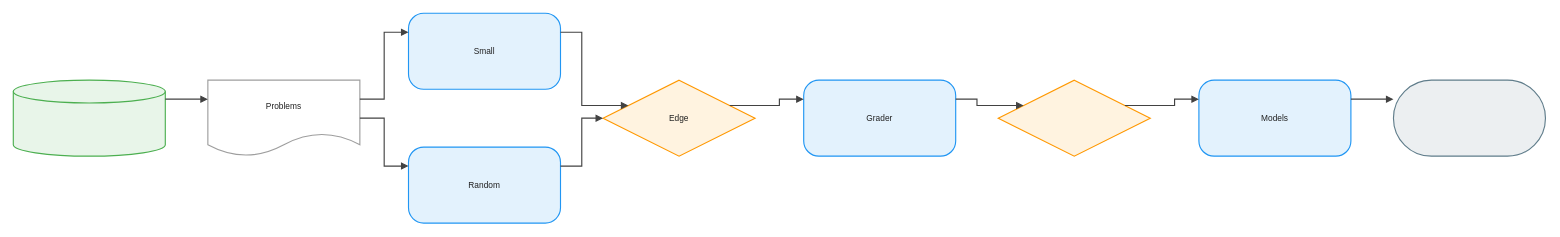
This 1560x237 diagram has some shape labels left out. Here are the shapes that lost their labels. From the top down, the centre of each, then its label:
At (x=89, y=117): "Contests".
At (x=1073, y=117): "Validate".
At (x=1469, y=117): "Scores".
